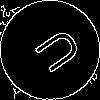U: (25, 25, 84, 81)
